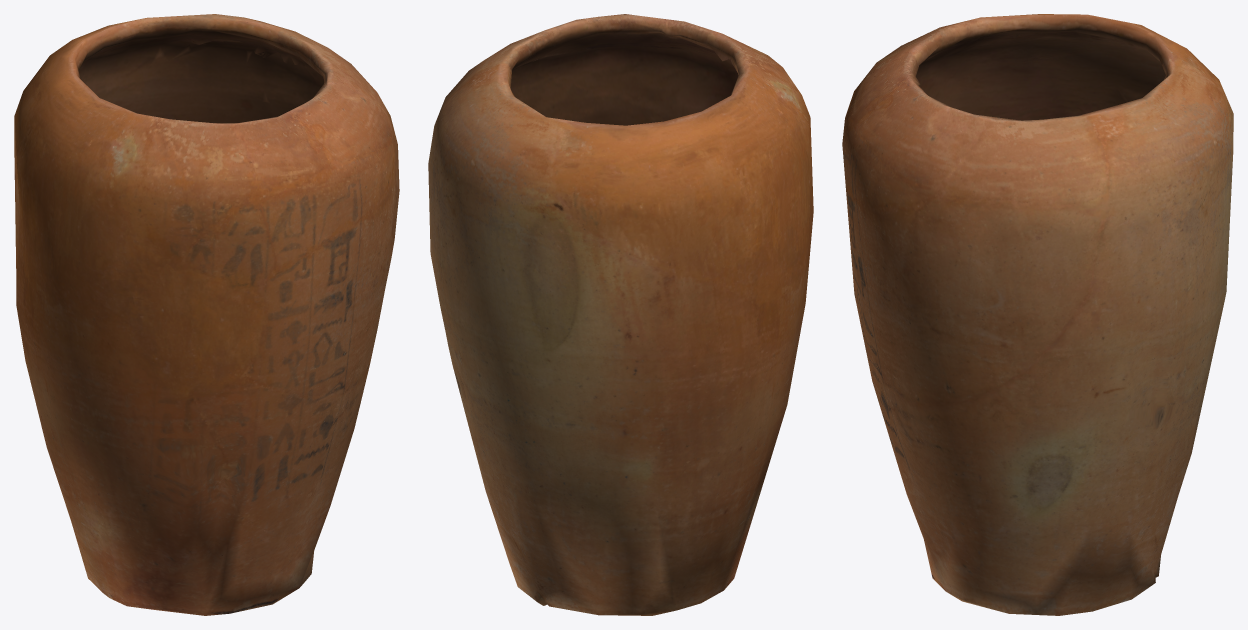
The model's file is Canopic_Jar_With_a_Lid_Base.fbx.
3 renders of one model, left to right at view 1: azimuth 30°, elevation 25°; view 2: azimuth 150°, elevation 25°; view 3: azimuth 270°, elevation 25°, orthographic.
Parts seen in each view (by area): view 1: Canopic_Jar_With_a_Lid_Base_LOD0; view 2: Canopic_Jar_With_a_Lid_Base_LOD0; view 3: Canopic_Jar_With_a_Lid_Base_LOD0.
Part boxes in pixels (bbox=[...]): Canopic_Jar_With_a_Lid_Base_LOD0: bbox=[14, 14, 399, 615]; Canopic_Jar_With_a_Lid_Base_LOD0: bbox=[428, 14, 813, 615]; Canopic_Jar_With_a_Lid_Base_LOD0: bbox=[842, 14, 1233, 615].
Size of what is drawn, in the model's own units: 33.39 by 48.7 by 33.94.
